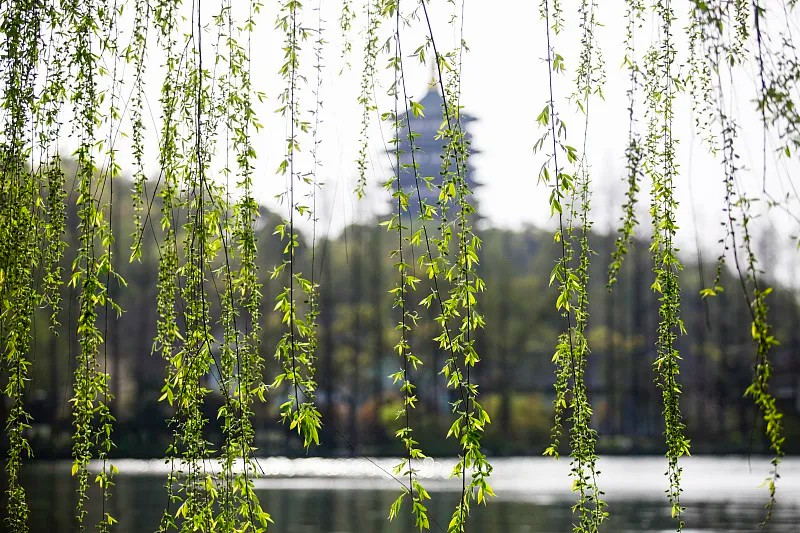Leifeng: (377, 56, 488, 234)
